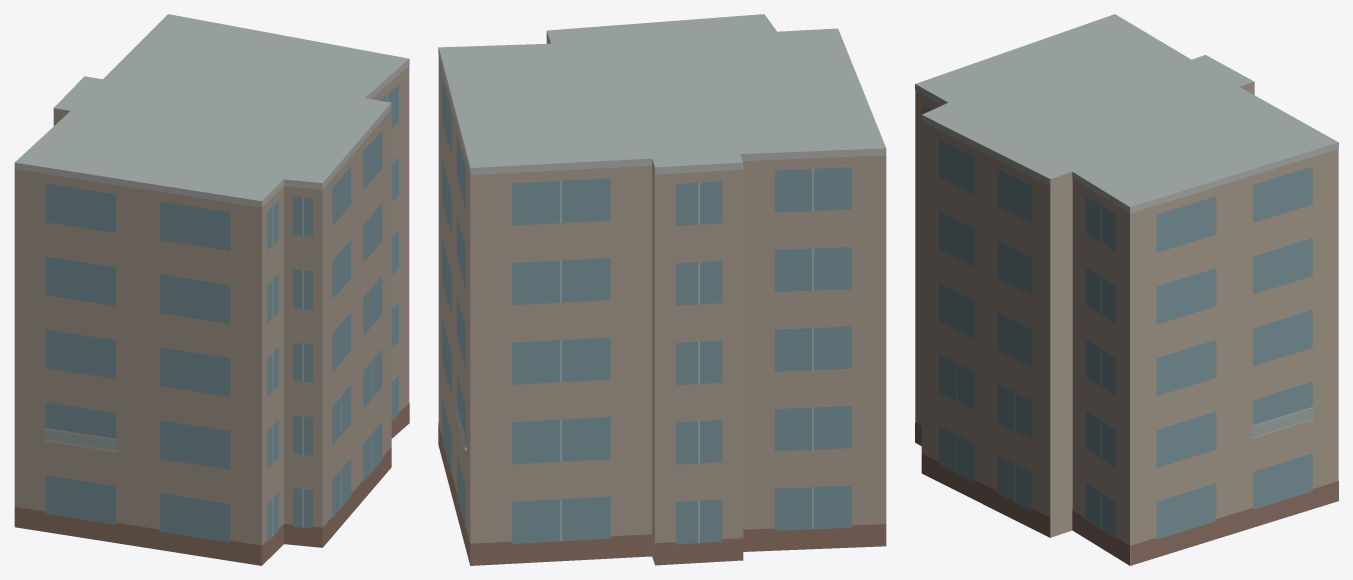
File: survey-upis-32644886.glb
3 views of the same model, side by side, from view 1: azimuth 30°, elevation 25°; view 2: azimuth 150°, elevation 25°; view 3: azimuth 270°, elevation 25° (orthographic). The views are drawn at different scales.
Visible parts, largest first — view 1: survey-upis-32644886.tmp; view 2: survey-upis-32644886.tmp; view 3: survey-upis-32644886.tmp.
Part boxes in pixels (box(x1,y1,x2,y2)): survey-upis-32644886.tmp: box(14, 14, 409, 565); survey-upis-32644886.tmp: box(438, 14, 886, 565); survey-upis-32644886.tmp: box(915, 14, 1338, 565).
Size of the model in its own units: 15.84 by 13.7 by 14.67.
